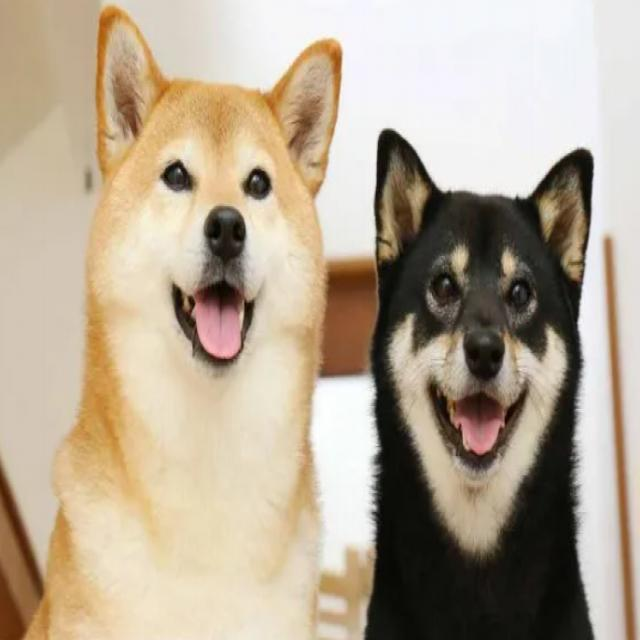dogs: (24, 2, 343, 640), (360, 125, 598, 640)
